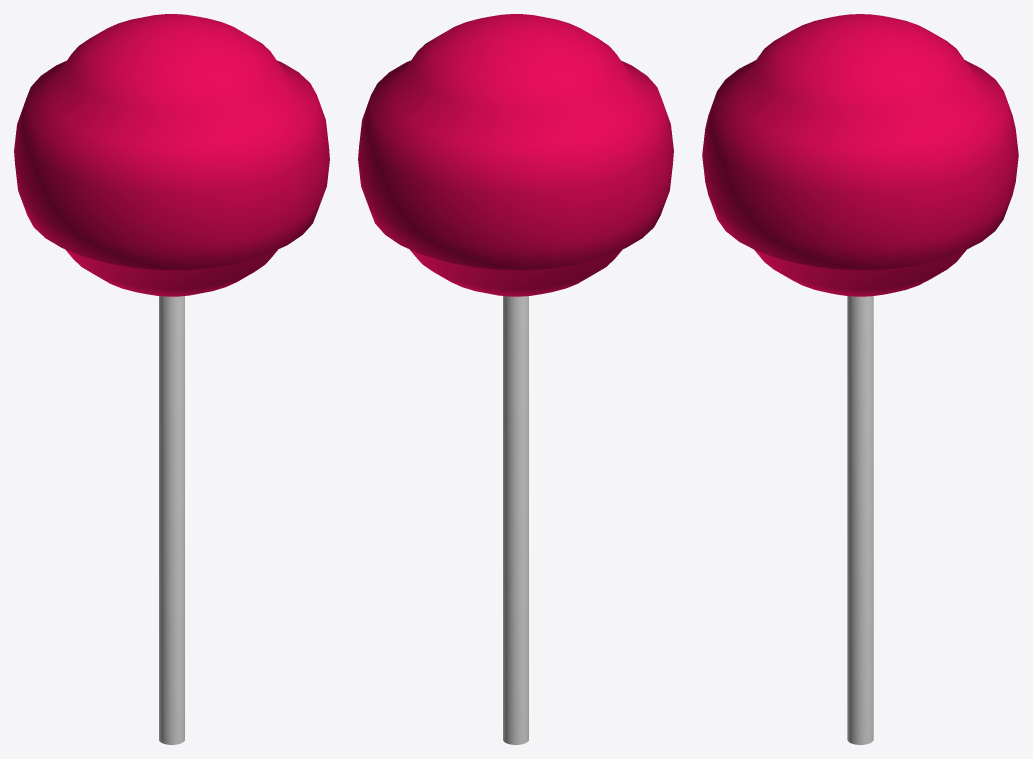
File: lolipop.fbx
The picture shows the model from 3 angles, left to right: view 1: azimuth 30°, elevation 25°; view 2: azimuth 150°, elevation 25°; view 3: azimuth 270°, elevation 25°; orthographic projection.
Visible parts, largest first — view 1: Cylinder; view 2: Cylinder; view 3: Cylinder.
Boxes of the visible parts, left/top/right/bottom form: Cylinder: left=14, top=14, right=329, bottom=744; Cylinder: left=358, top=14, right=673, bottom=744; Cylinder: left=702, top=14, right=1018, bottom=744.
Bounding box in the file's own units: 215 × 533 × 215.
